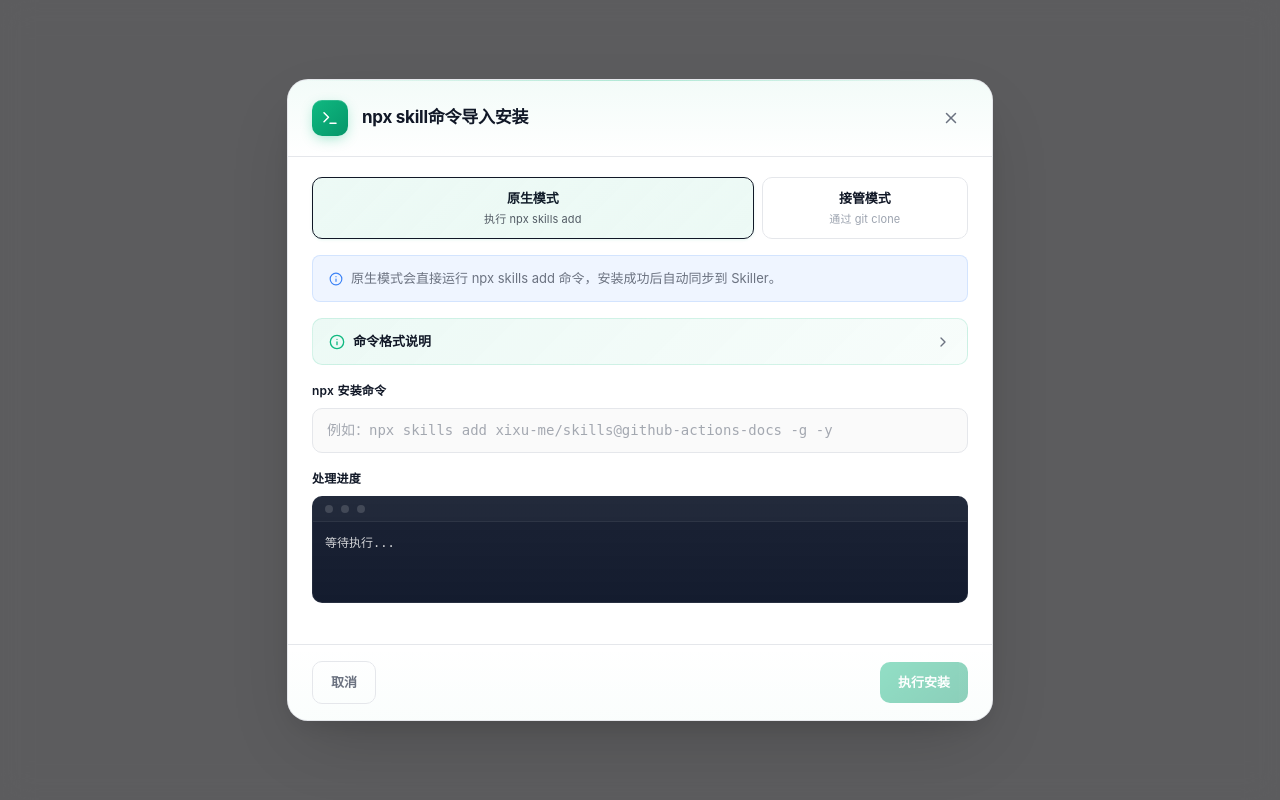
Test: NpxImportDialog - Native Mode Error Handling › should show friendly error when skill installation fails due to non-existent skill
Type "npx skills add xixu-me/skills@non-existent-skill -g -y" into the field with placeholder "例如：npx skills add xixu-me/skills@github-actions-docs -g -y" at [640, 430], box [312, 408, 968, 453]
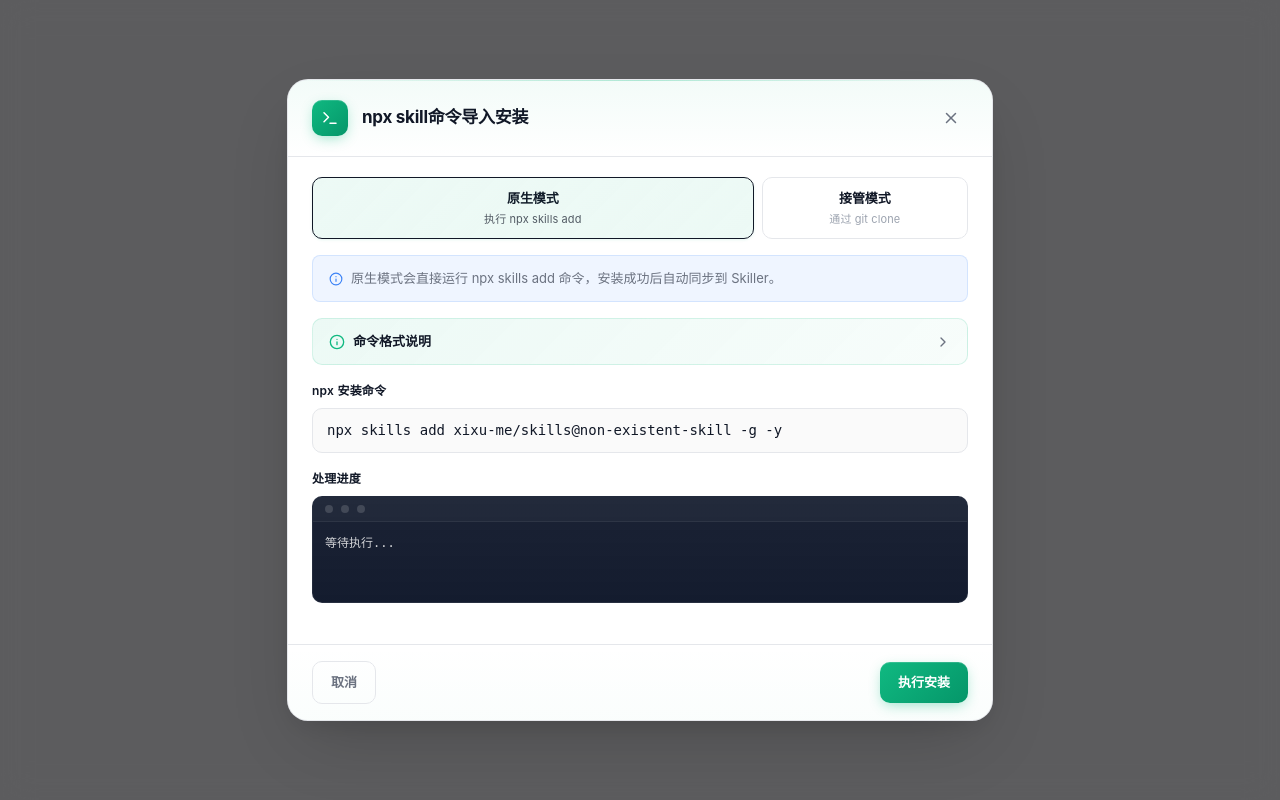
Click the button "执行安装" at [924, 683], box [880, 662, 968, 703]
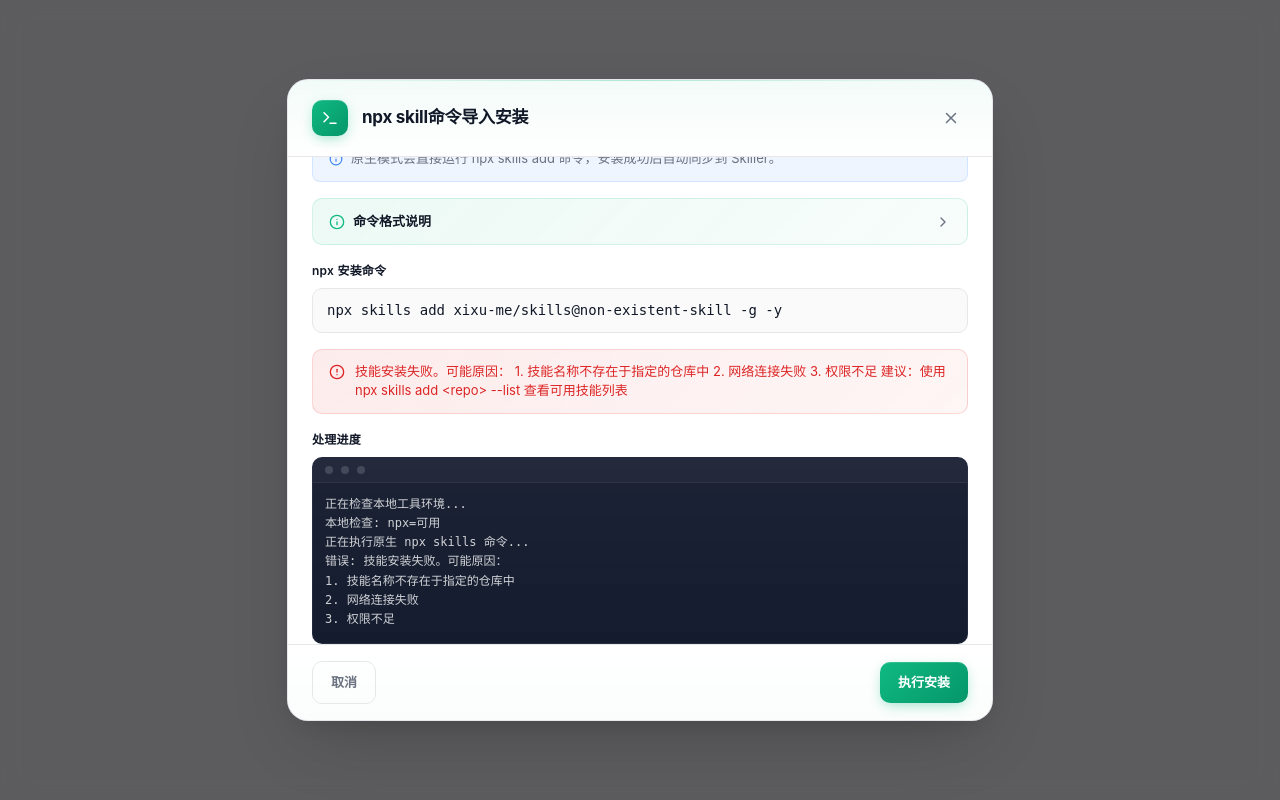
Check: the text "技能名称不存在" is shown, box [355, 363, 946, 398]
